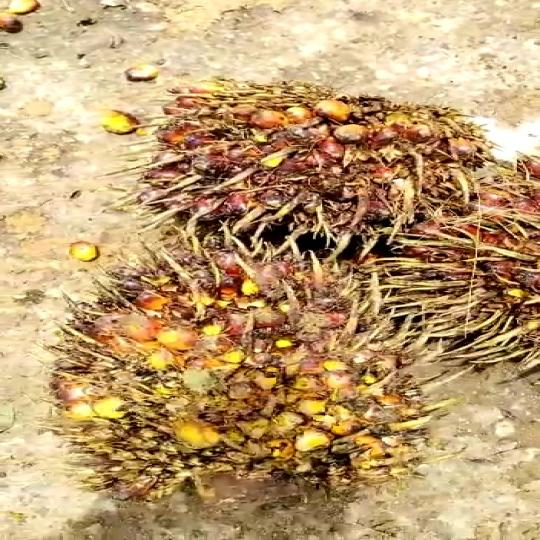masak: (44, 234, 443, 510), (148, 70, 505, 260)
